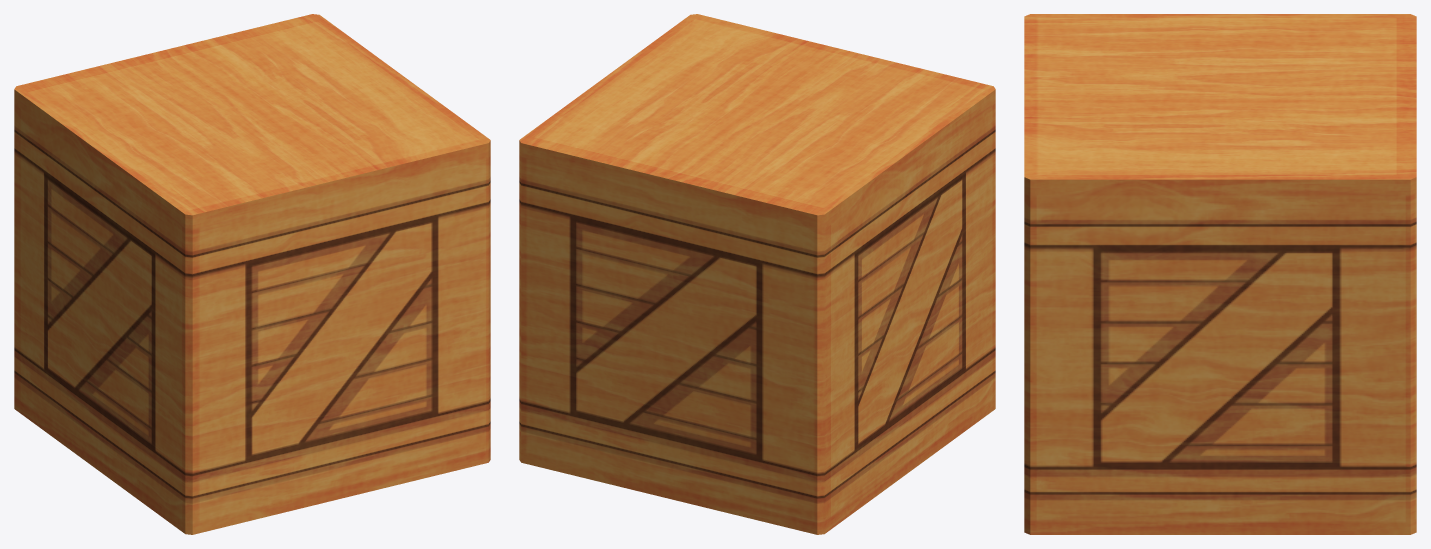
Rendered from wooden_box.fbx.
3 views of the same model, side by side, from view 1: azimuth 30°, elevation 25°; view 2: azimuth 150°, elevation 25°; view 3: azimuth 270°, elevation 25° (orthographic). The views are drawn at different scales.
Parts seen in each view (by area): view 1: 立方体; view 2: 立方体; view 3: 立方体.
Part boxes in pixels (left/top/right/bottom): 立方体: left=14, top=14, right=490, bottom=534; 立方体: left=519, top=14, right=995, bottom=534; 立方体: left=1024, top=14, right=1416, bottom=534.
Size of the model in its own units: 200 by 200 by 200.
1 material, 1 textured.
